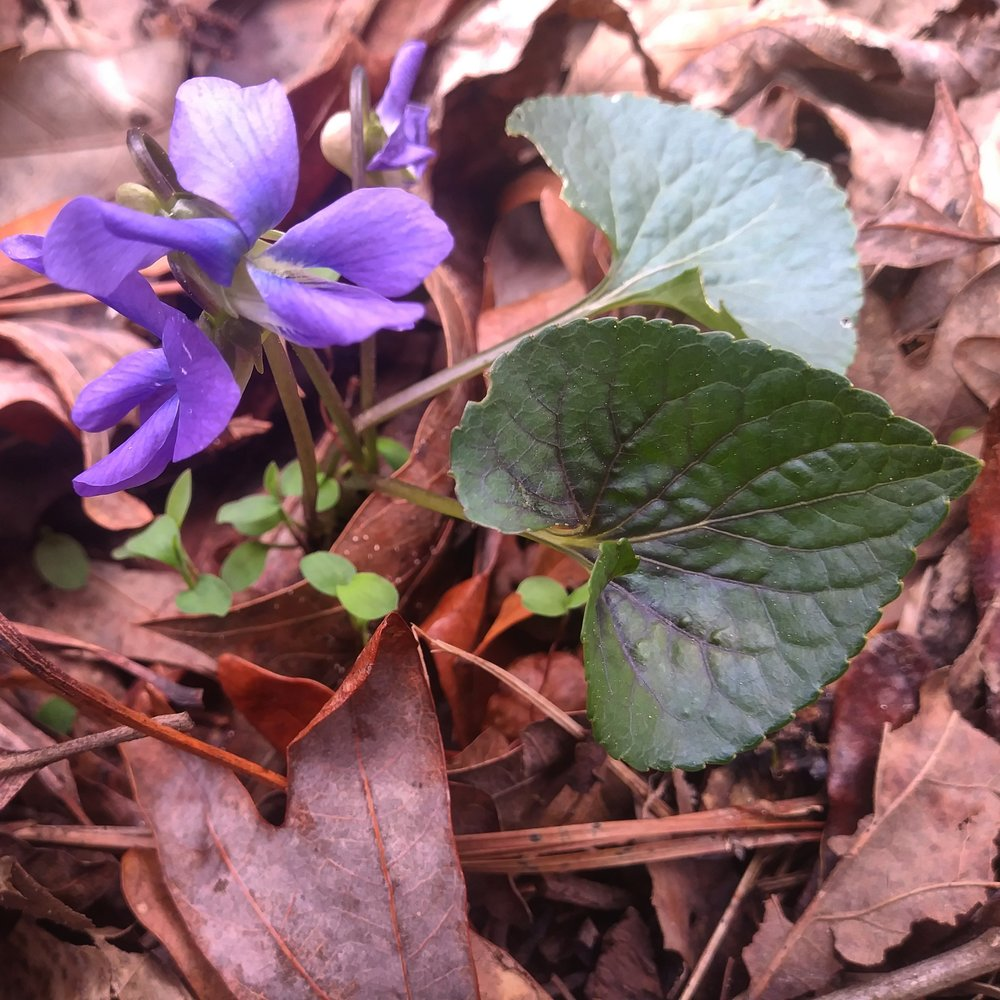violet: (162, 70, 445, 343), (51, 195, 245, 504)
